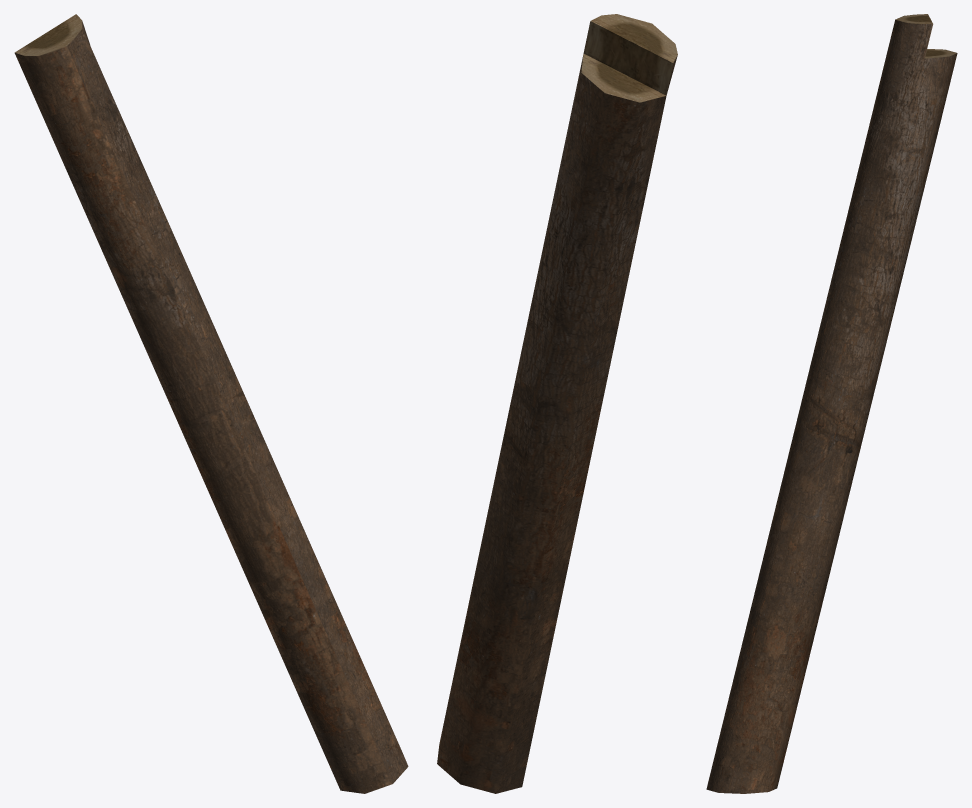
Rendered from piece.obj.
The picture shows the model from 3 angles, left to right: view 1: azimuth 30°, elevation 25°; view 2: azimuth 150°, elevation 25°; view 3: azimuth 270°, elevation 25°; orthographic projection. The views are drawn at different scales.
Parts seen in each view (by area): view 1: TS_Lo_R; view 2: TS_Lo_R; view 3: TS_Lo_R.
Boxes of the visible parts, left/top/right/bottom form: TS_Lo_R: left=14, top=14, right=408, bottom=793; TS_Lo_R: left=437, top=14, right=677, bottom=793; TS_Lo_R: left=706, top=14, right=957, bottom=793.
Size of the model in its own units: 0.8745 by 2.14 by 0.7073.
Materials: 1 (1 with a texture image).
